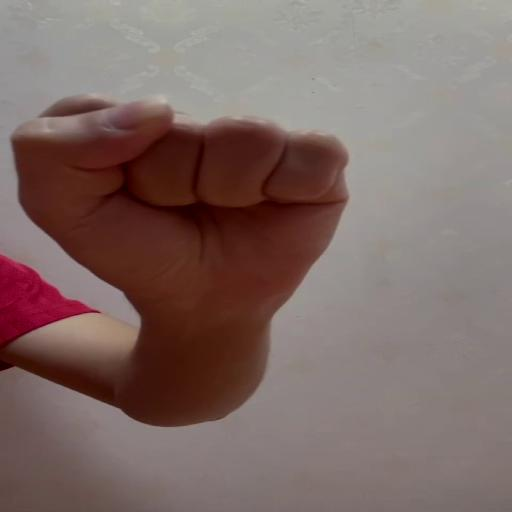fist: (7, 91, 353, 311)
